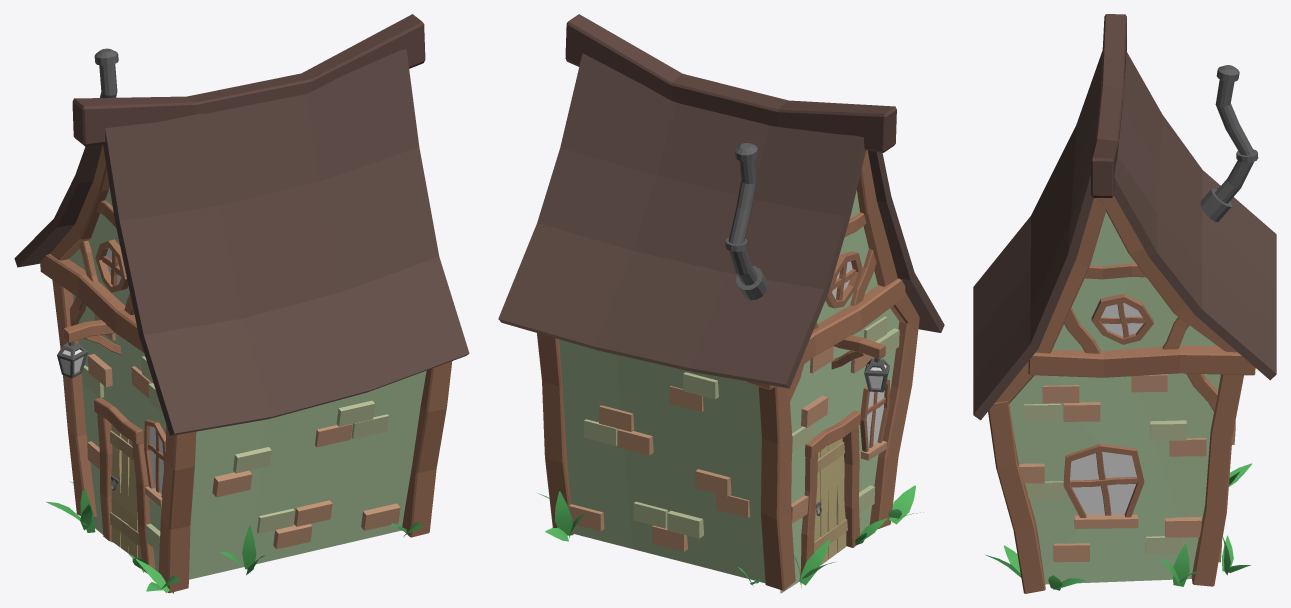
The model's file is CottageBuilding.fbx.
The picture shows the model from 3 angles, left to right: view 1: azimuth 30°, elevation 25°; view 2: azimuth 150°, elevation 25°; view 3: azimuth 270°, elevation 25°; orthographic projection. The views are drawn at different scales.
Parts seen in each view (by area): view 1: Plane; view 2: Plane; view 3: Plane.
Boxes of the visible parts, x1=… form: Plane: x1=14, y1=14, x2=469, y2=593; Plane: x1=498, y1=14, x2=944, y2=593; Plane: x1=973, y1=14, x2=1276, y2=593.
Size of the model in its own units: 57.31 by 77.03 by 46.49.
